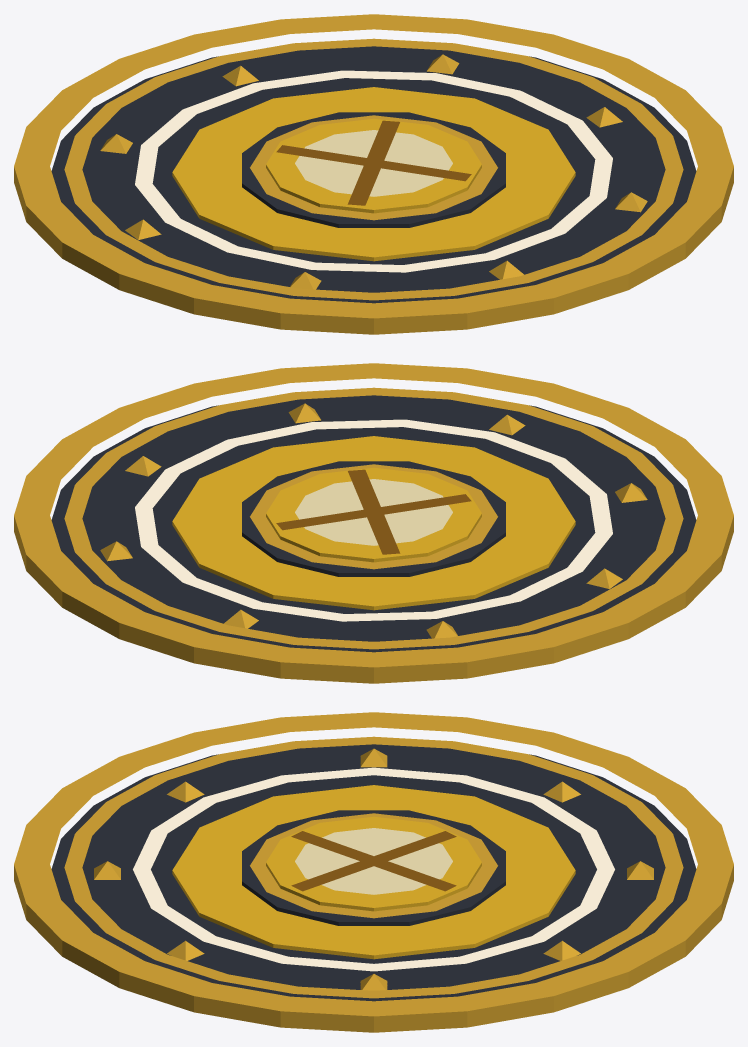
File: drummer_legend_area.glb
3 views of the same model, one above another, from view 1: azimuth 30°, elevation 25°; view 2: azimuth 150°, elevation 25°; view 3: azimuth 270°, elevation 25° (orthographic).
Parts seen in each view (by area): view 1: drummer_legend_area; view 2: drummer_legend_area; view 3: drummer_legend_area.
Part boxes in pixels (x1,y1,x2,y2): drummer_legend_area: (14, 14, 733, 334); drummer_legend_area: (14, 363, 733, 683); drummer_legend_area: (14, 712, 733, 1032).
Size of the model in its own units: 2 by 0.06 by 2.
Materials: 2 (2 with a texture image).
